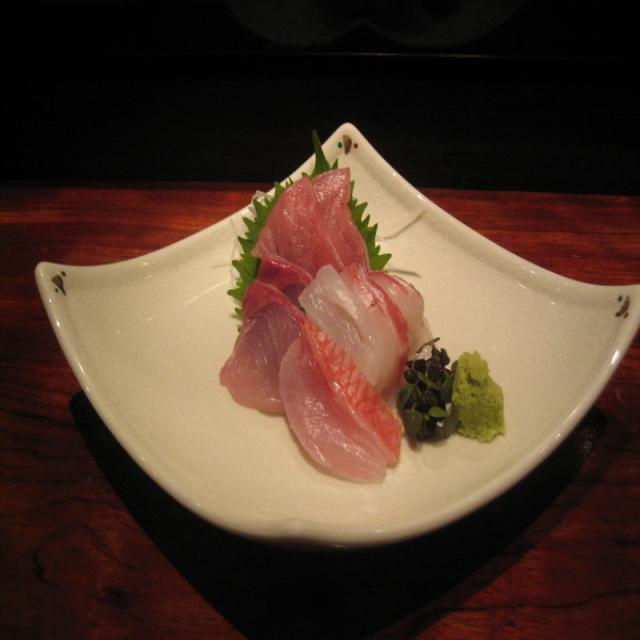刺身生食: (208, 116, 512, 546)
